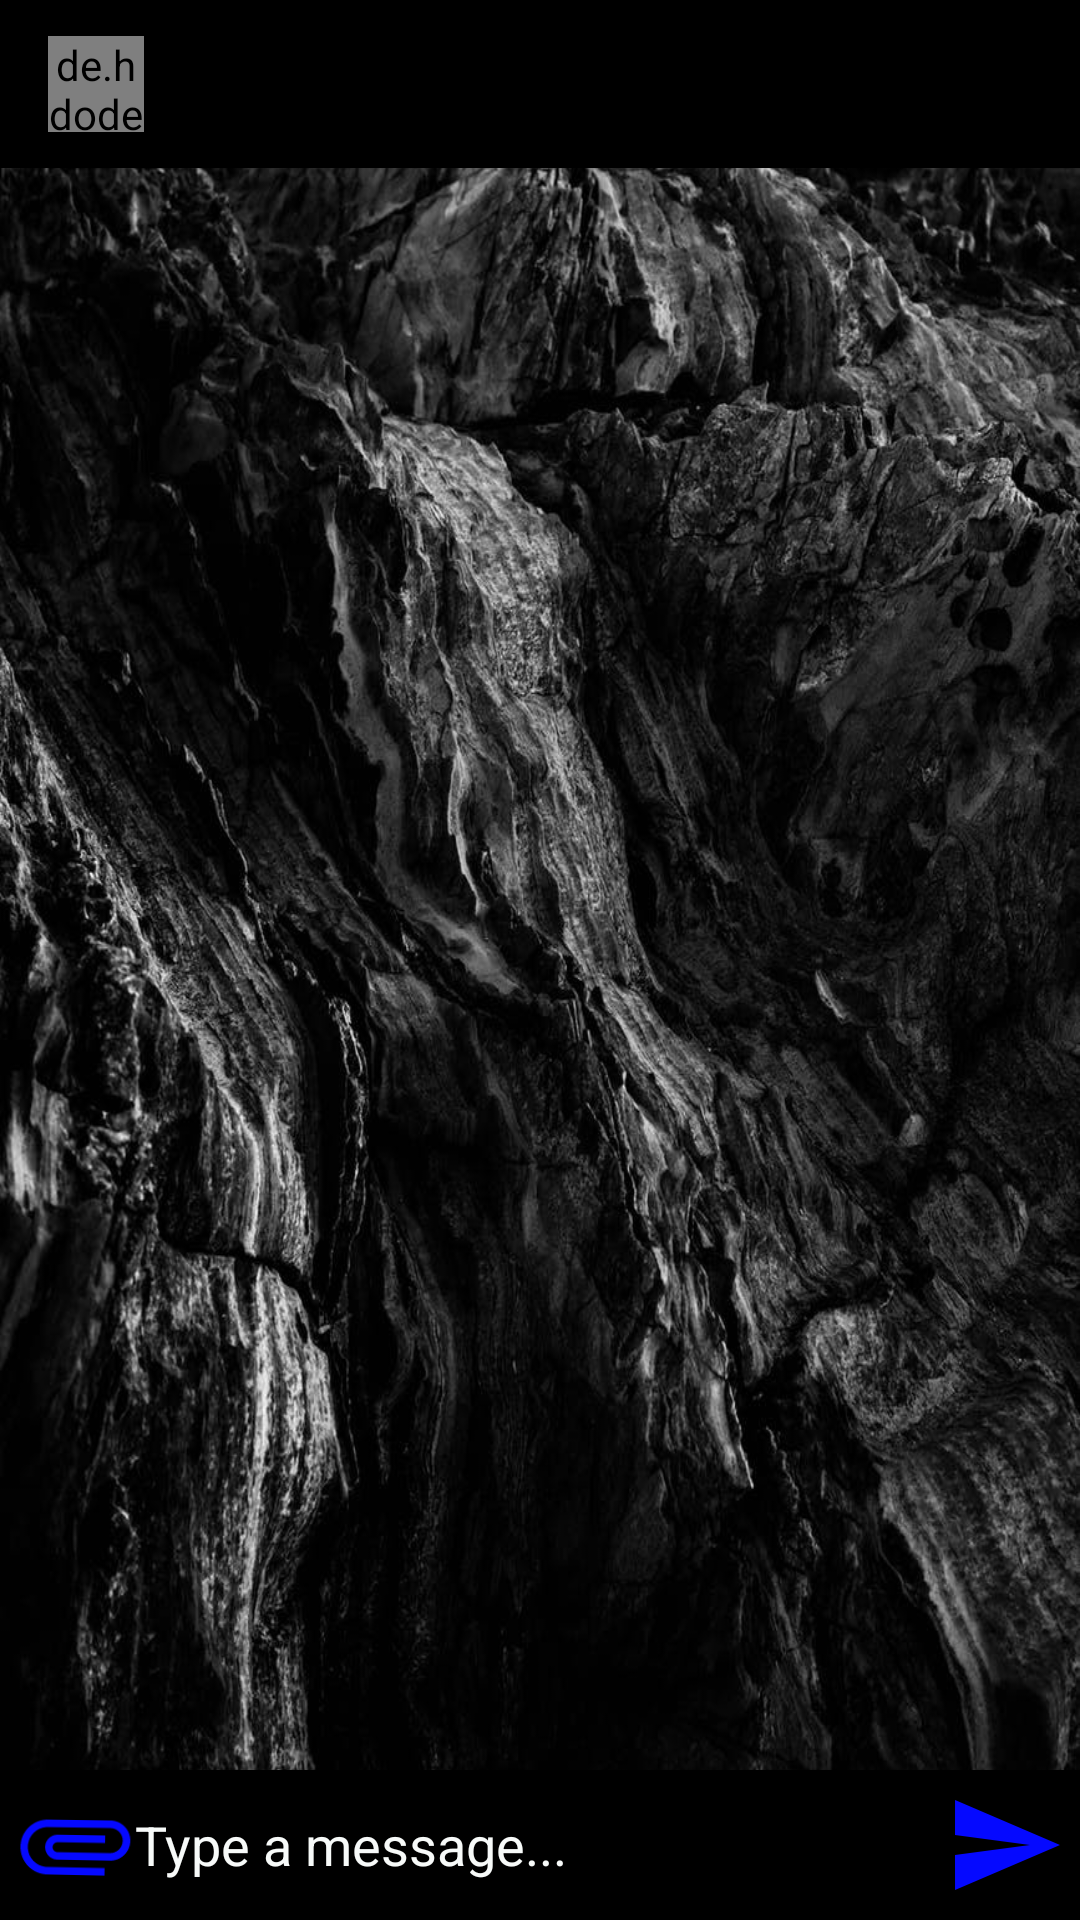

Locate icon controls on the screen. Image size 1080px x 1920px, boxes as (x1, y1, x2, y2).
send: (955, 1800, 1060, 1890)
